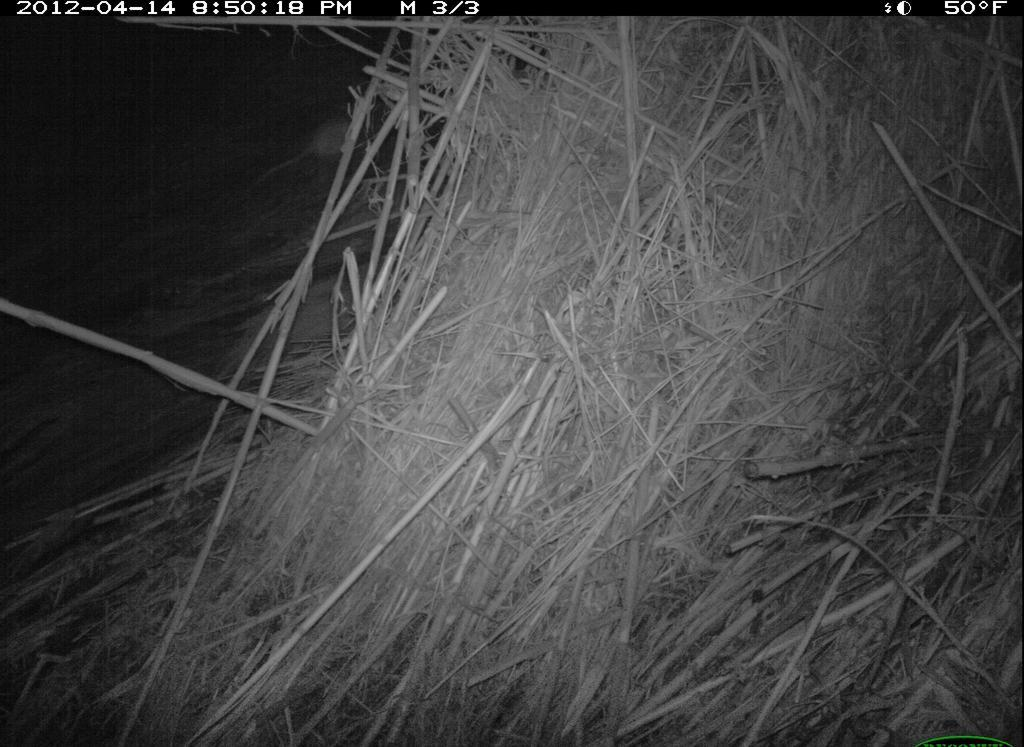opossum: (251, 100, 387, 203)
